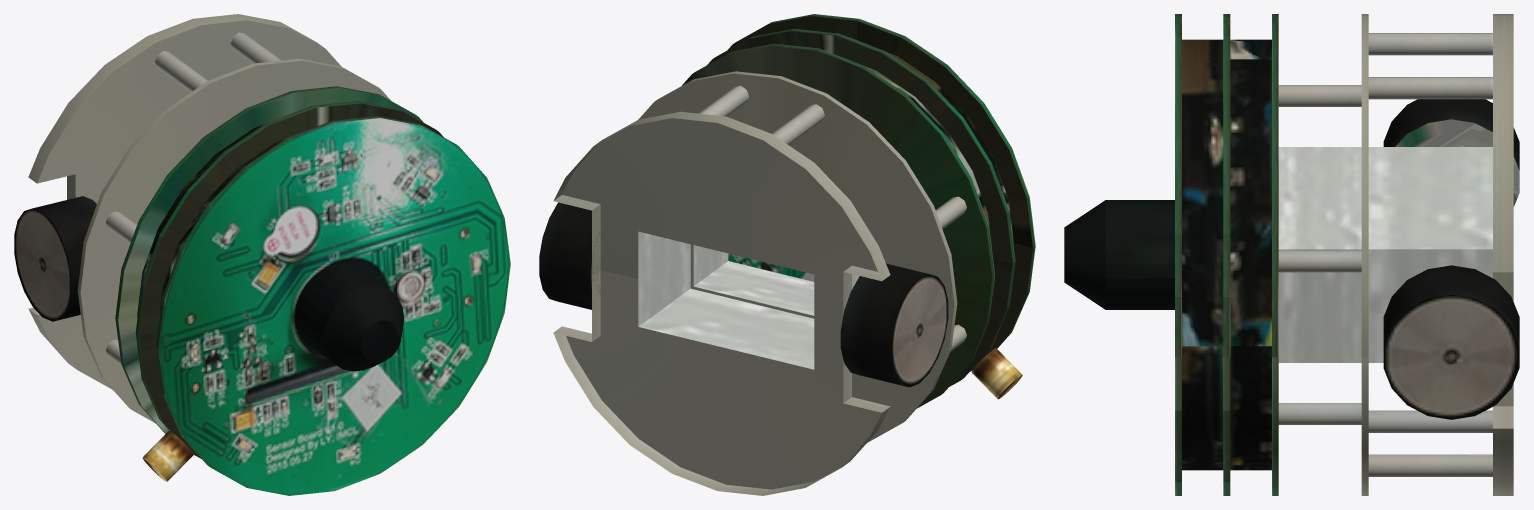
Rendered from blinkyBlockSimple.obj.
3 views of the same model, side by side, from view 1: azimuth 30°, elevation 25°; view 2: azimuth 150°, elevation 25°; view 3: azimuth 270°, elevation 25° (orthographic). The views are drawn at different scales.
Visible parts, largest first — view 1: robot, wheels; view 2: robot, wheels; view 3: robot, wheels.
Part boxes in pixels (x1,y1,x2,y2): robot: (28, 14, 510, 495); wheels: (14, 196, 96, 321); robot: (553, 14, 1035, 495); wheels: (539, 202, 948, 387); robot: (1064, 14, 1513, 495); wheels: (1383, 99, 1519, 419).
Bounding box in the file's own units: 70 × 70 × 65.87.
